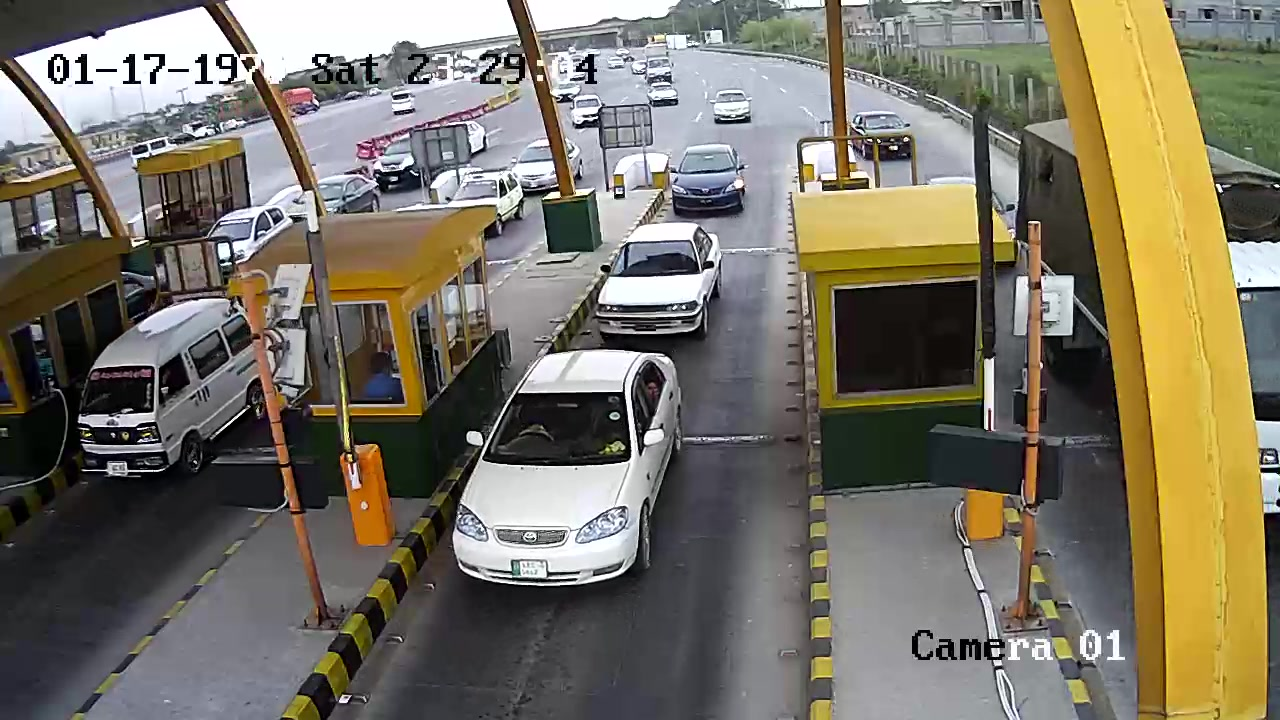F1: (459, 342, 691, 592)
